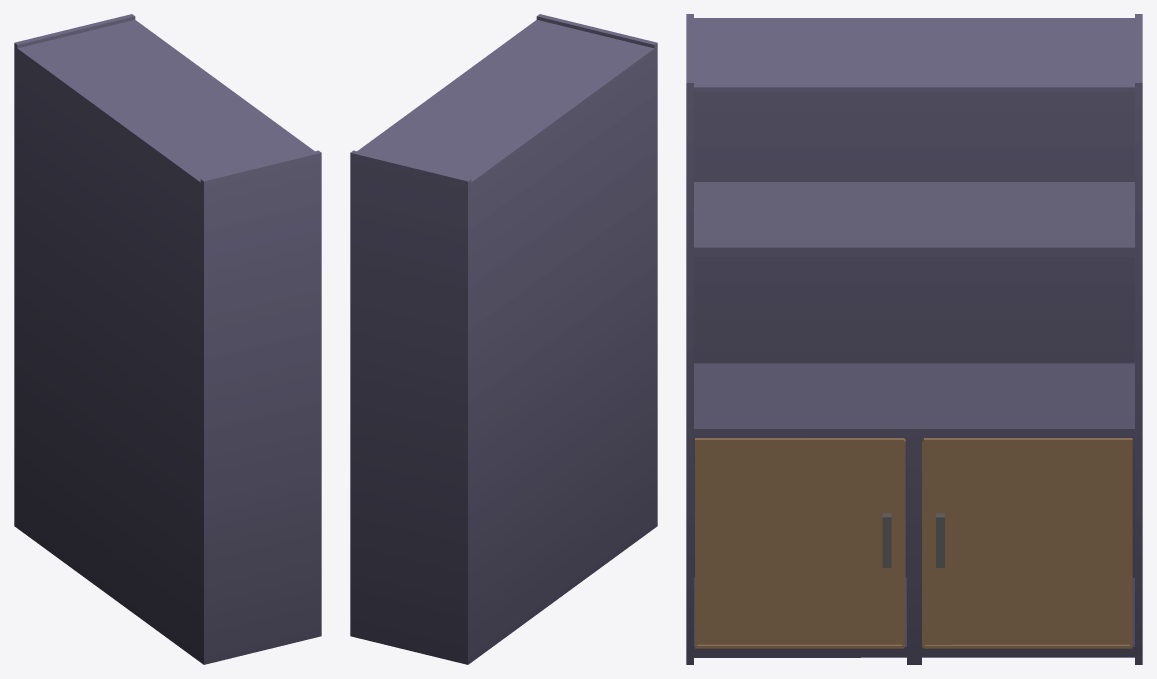
The model's file is Cabinet2.fbx.
3 renders of one model, left to right at view 1: azimuth 30°, elevation 25°; view 2: azimuth 150°, elevation 25°; view 3: azimuth 270°, elevation 25°, orthographic. The views are drawn at different scales.
Visible parts, largest first — view 1: Cabinet; view 2: Cabinet; view 3: Cabinet, Cabinet_Drawer1, Cabiner_Drawer2.
Boxes of the visible parts, bbox=[...] form: Cabinet: bbox=[14, 14, 321, 664]; Cabinet: bbox=[350, 14, 657, 664]; Cabinet: bbox=[686, 14, 1142, 664]; Cabinet_Drawer1: bbox=[922, 438, 1132, 648]; Cabiner_Drawer2: bbox=[695, 438, 905, 648].
Bounding box in the file's own units: 76.14 × 282 × 201.
5 materials, 1 textured.
